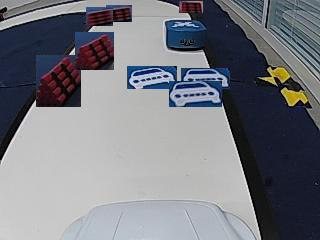prop: (165, 20, 206, 52)
